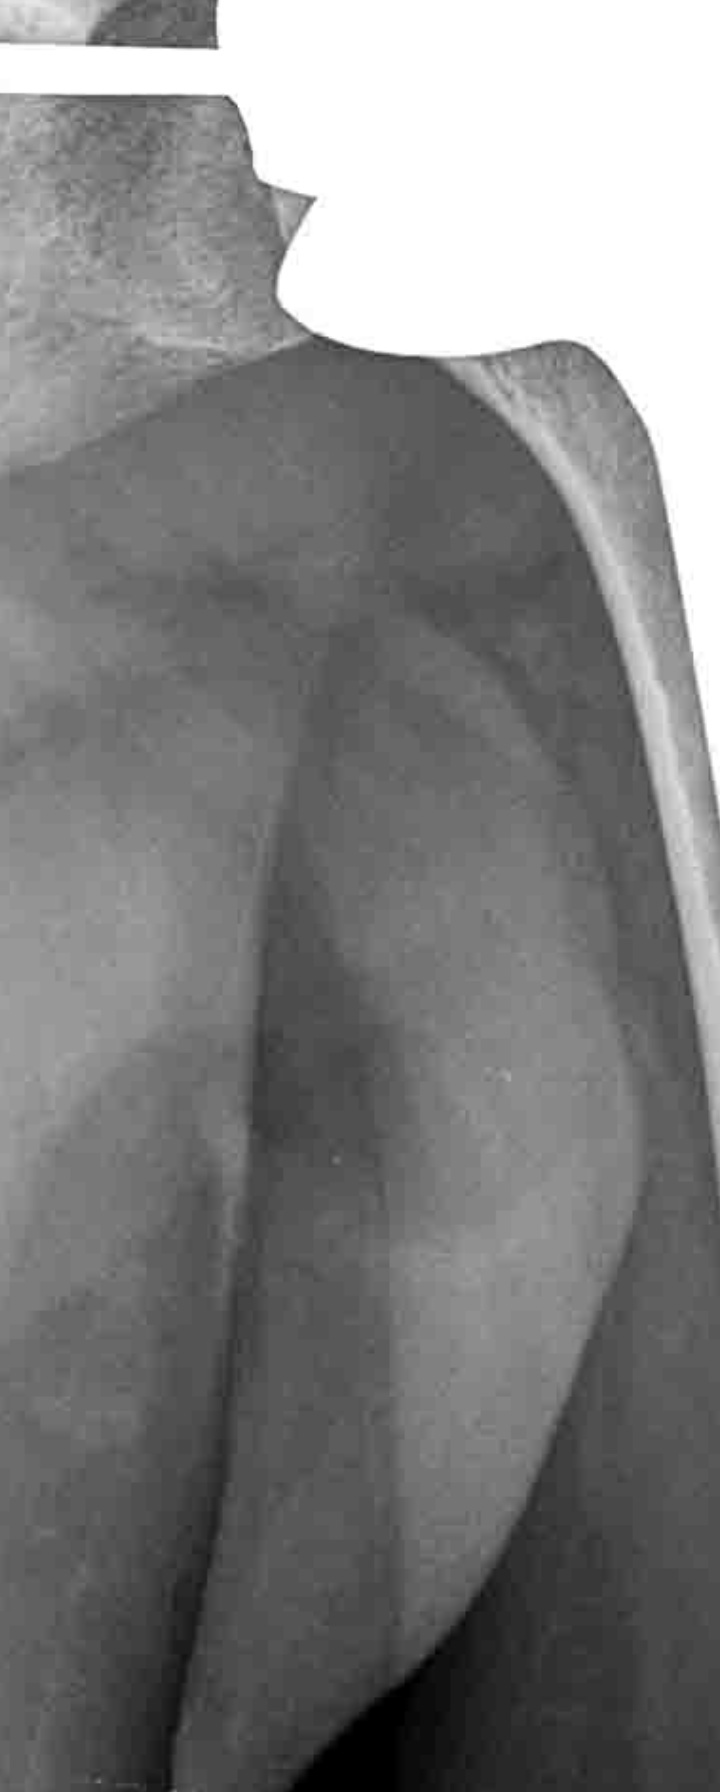Shoulder-Reverse-DJO: (1, 1, 719, 838)
